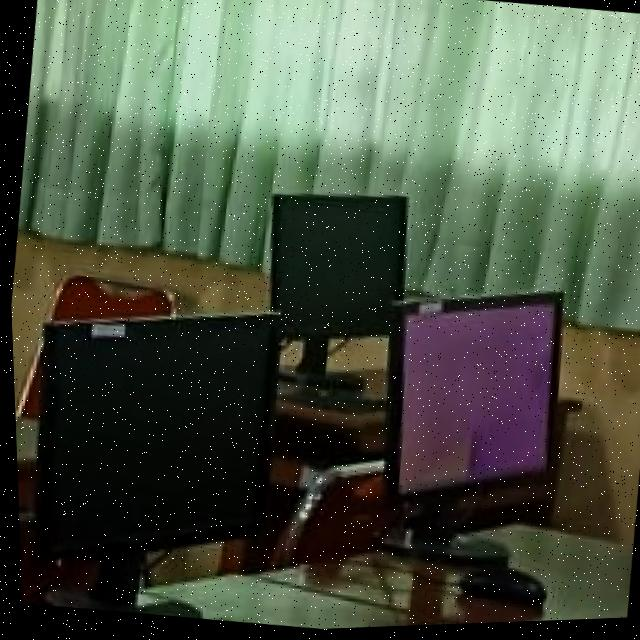offscreen: (33, 317, 273, 551), (268, 198, 403, 336)
onscreen: (382, 298, 558, 545)
